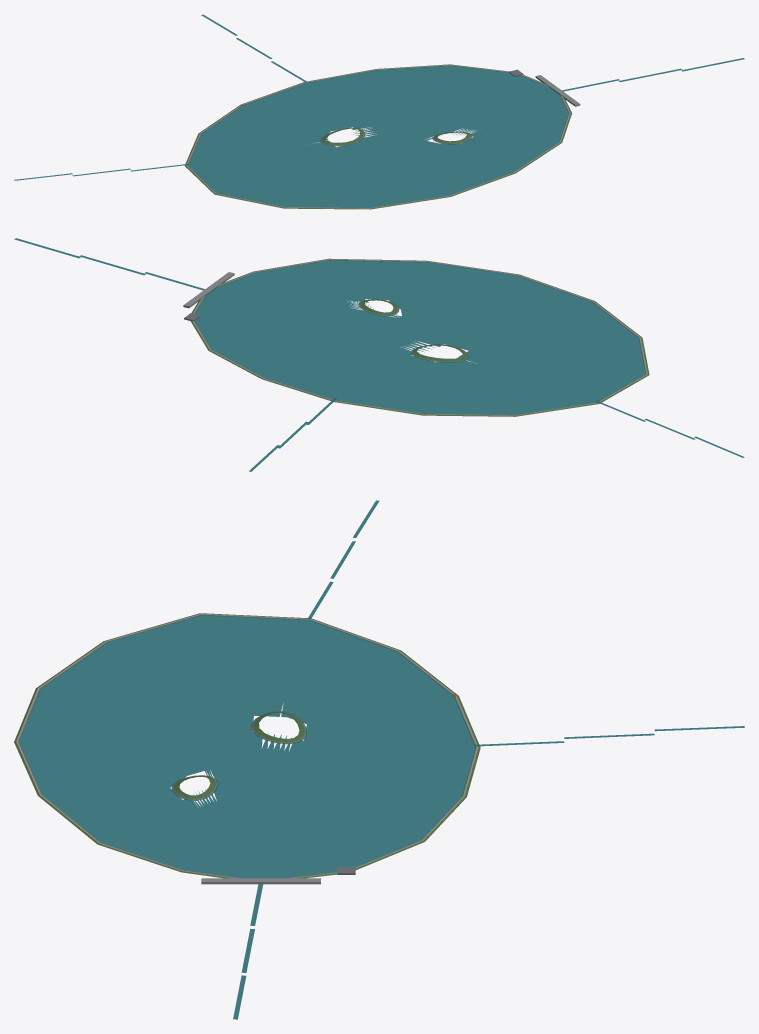
File: water_ho_lac_xuan_dran.glb
The picture shows the model from 3 angles, top to bottom: view 1: azimuth 30°, elevation 25°; view 2: azimuth 150°, elevation 25°; view 3: azimuth 270°, elevation 25°; orthographic projection. The views are drawn at different scales.
Parts seen in each view (by area): view 1: water_surface_water_ho_lac_xuan_dran, shoreline_terrain_transition_verge_water_ho_lac_xuan_dran, lakeside_promenade_walkway_water_ho_lac_xuan_dran, embankment_stone_coping_water_ho_lac_xuan_dran, headwater_terraces_stream_lac_xuan_east_spillway_to_da_nhim; view 2: water_surface_water_ho_lac_xuan_dran, shoreline_terrain_transition_verge_water_ho_lac_xuan_dran, lakeside_promenade_walkway_water_ho_lac_xuan_dran, embankment_stone_coping_water_ho_lac_xuan_dran, headwater_terraces_stream_lac_xuan_east_spillway_to_da_nhim; view 3: water_surface_water_ho_lac_xuan_dran, shoreline_terrain_transition_verge_water_ho_lac_xuan_dran, lakeside_promenade_walkway_water_ho_lac_xuan_dran, embankment_stone_coping_water_ho_lac_xuan_dran, lac_xuan_main_irrigation_earth_dam_crest.
Boxes of the visible parts, x1,y1,x2,y2 form: water_surface_water_ho_lac_xuan_dran: (188, 65, 568, 207); shoreline_terrain_transition_verge_water_ho_lac_xuan_dran: (184, 64, 572, 209); lakeside_promenade_walkway_water_ho_lac_xuan_dran: (186, 64, 570, 208); embankment_stone_coping_water_ho_lac_xuan_dran: (187, 65, 569, 207); headwater_terraces_stream_lac_xuan_east_spillway_to_da_nhim: (562, 58, 744, 91); water_surface_water_ho_lac_xuan_dran: (194, 260, 645, 414); shoreline_terrain_transition_verge_water_ho_lac_xuan_dran: (190, 258, 649, 416); lakeside_promenade_walkway_water_ho_lac_xuan_dran: (192, 259, 647, 415); embankment_stone_coping_water_ho_lac_xuan_dran: (194, 259, 646, 415); headwater_terraces_stream_lac_xuan_east_spillway_to_da_nhim: (14, 238, 204, 290); water_surface_water_ho_lac_xuan_dran: (19, 615, 475, 878); shoreline_terrain_transition_verge_water_ho_lac_xuan_dran: (14, 613, 480, 883); lakeside_promenade_walkway_water_ho_lac_xuan_dran: (16, 613, 478, 878); embankment_stone_coping_water_ho_lac_xuan_dran: (18, 614, 476, 878); lac_xuan_main_irrigation_earth_dam_crest: (201, 878, 320, 884).
Size of the model in its own units: 3037 by 48.5 by 1863.
